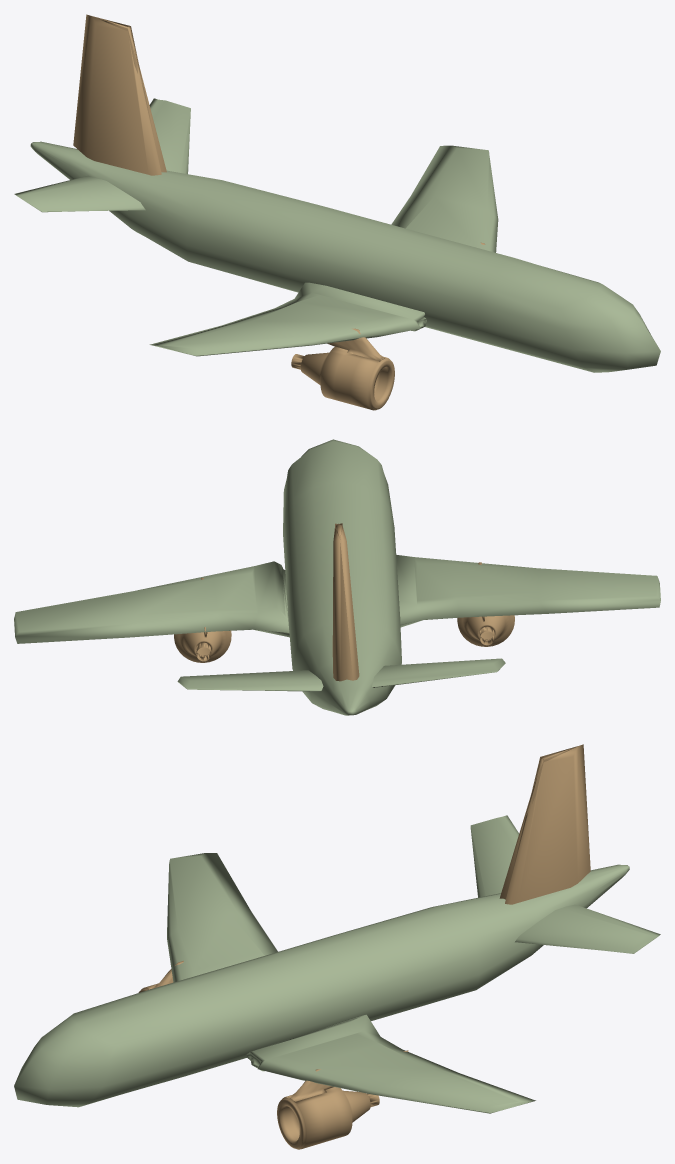
File: prop_wreck_fighter_bay.glb
The picture shows the model from 3 angles, top to bottom: view 1: azimuth 30°, elevation 25°; view 2: azimuth 150°, elevation 25°; view 3: azimuth 270°, elevation 25°; orthographic projection. The views are drawn at different scales.
Visible parts, largest first — view 1: wreck_fighter_bay; view 2: wreck_fighter_bay; view 3: wreck_fighter_bay.
Part boxes in pixels (x1=…): wreck_fighter_bay: x1=14, y1=14, x2=660, y2=410; wreck_fighter_bay: x1=14, y1=439, x2=660, y2=715; wreck_fighter_bay: x1=14, y1=744, x2=660, y2=1149.
Bounding box in the file's own units: 3.24 × 1.74 × 3.8.
